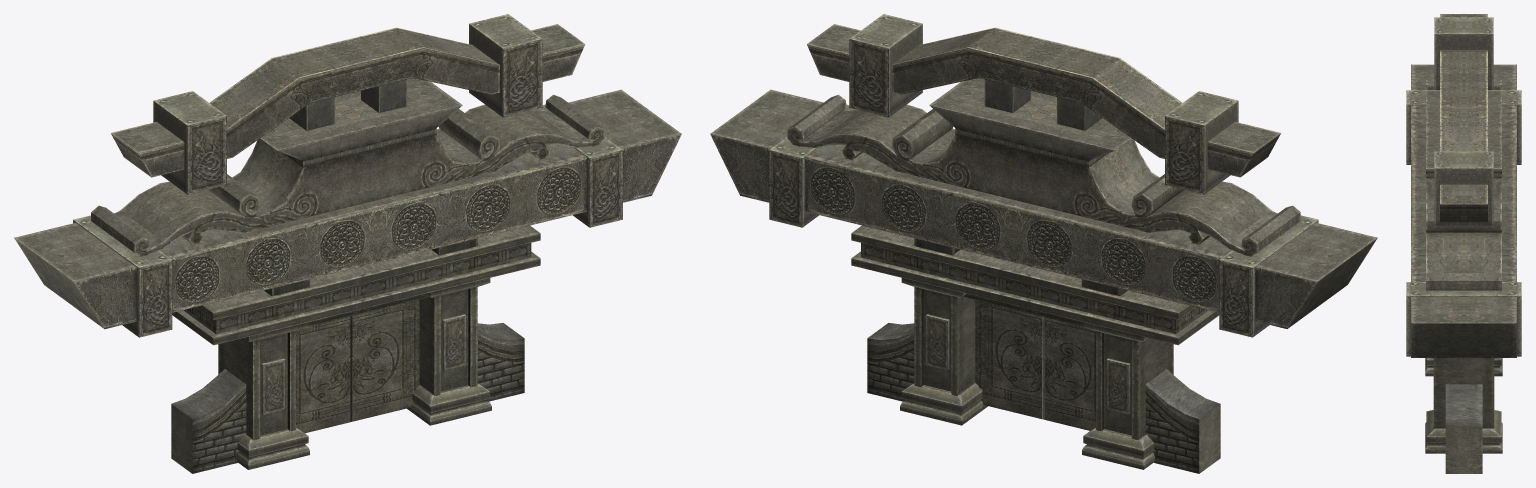
File: 4st_gate_002.fbx
The picture shows the model from 3 angles, left to right: view 1: azimuth 30°, elevation 25°; view 2: azimuth 150°, elevation 25°; view 3: azimuth 270°, elevation 25°; orthographic projection. The views are drawn at different scales.
Parts seen in each view (by area): view 1: 2st_gate_002; view 2: 2st_gate_002; view 3: 2st_gate_002.
Boxes of the visible parts, <box> form: 2st_gate_002: <box>14,14,681,473</box>; 2st_gate_002: <box>710,14,1377,473</box>; 2st_gate_002: <box>1406,14,1521,473</box>.
Size of the model in its own units: 23.01 by 13.5 by 4.34.
